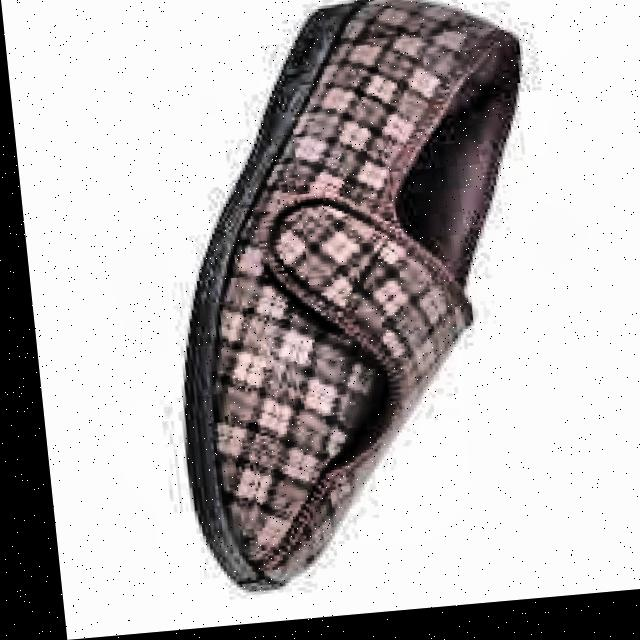shoes: (128, 0, 640, 629)
